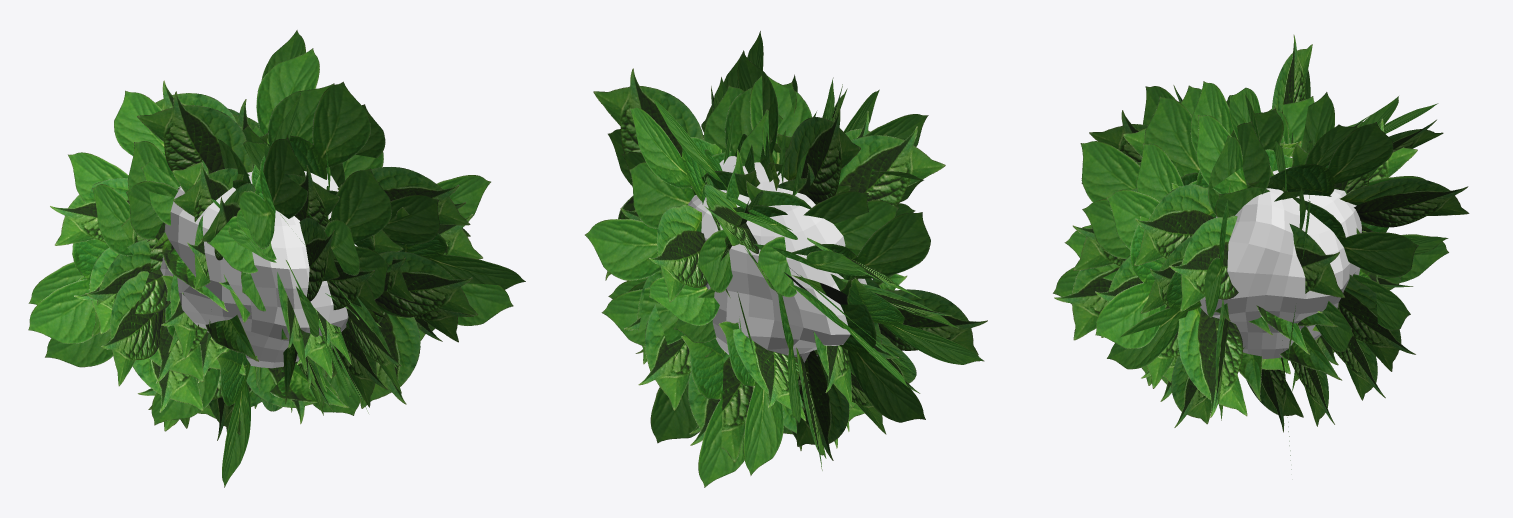
Rendered from куст 1,1ум.fbx.
3 views of the same model, side by side, from view 1: azimuth 30°, elevation 25°; view 2: azimuth 150°, elevation 25°; view 3: azimuth 270°, elevation 25° (orthographic). The views are drawn at different scales.
Visible parts, largest first — view 1: Сфера|Плоскость|Dupli|, Сфера; view 2: Сфера|Плоскость|Dupli|, Сфера; view 3: Сфера|Плоскость|Dupli|, Сфера.
Boxes of the visible parts, x1,y1,x2,y2 form: Сфера|Плоскость|Dupli|: (28,30,525,487); Сфера: (160,171,357,368); Сфера|Плоскость|Dupli|: (585,31,987,487); Сфера: (688,156,872,362); Сфера|Плоскость|Dupli|: (1053,34,1469,469); Сфера: (1200,156,1361,358).
Bounding box in the file's own units: 610 × 540 × 552.
